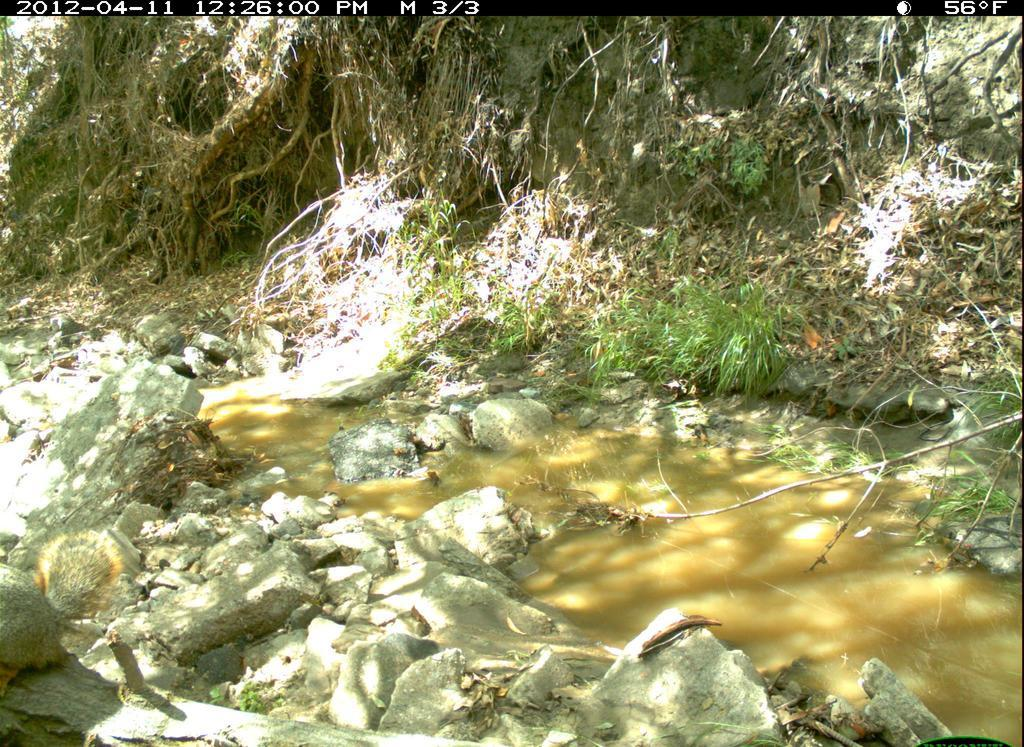squirrel: (2, 530, 129, 687)
